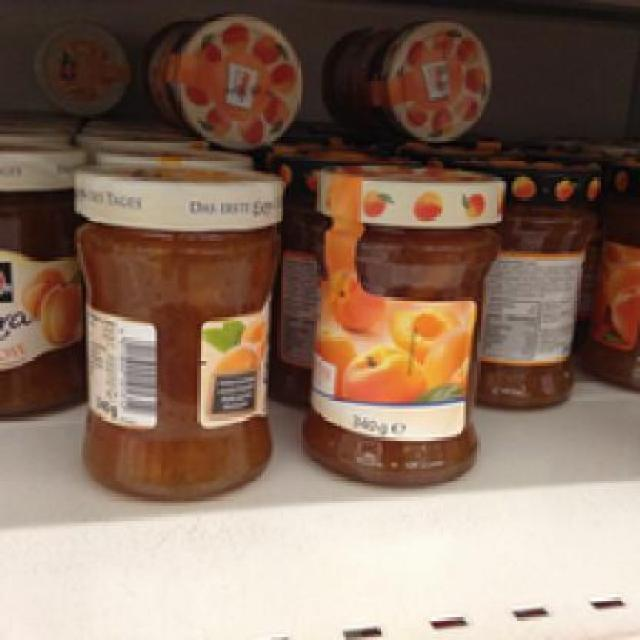Jam: (68, 157, 286, 500), (300, 162, 506, 488), (474, 156, 597, 410), (314, 20, 490, 137), (140, 14, 297, 143)
